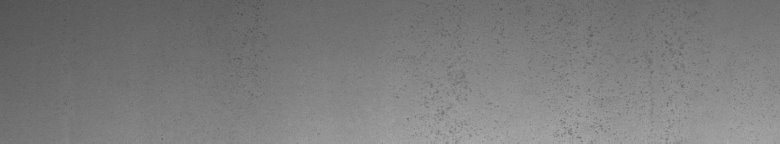ib: (557, 19, 683, 136)
